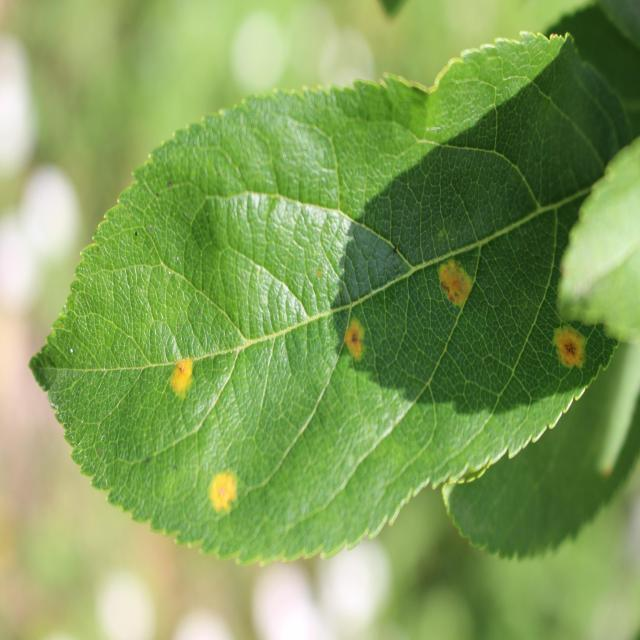rust: (28, 31, 633, 568)
